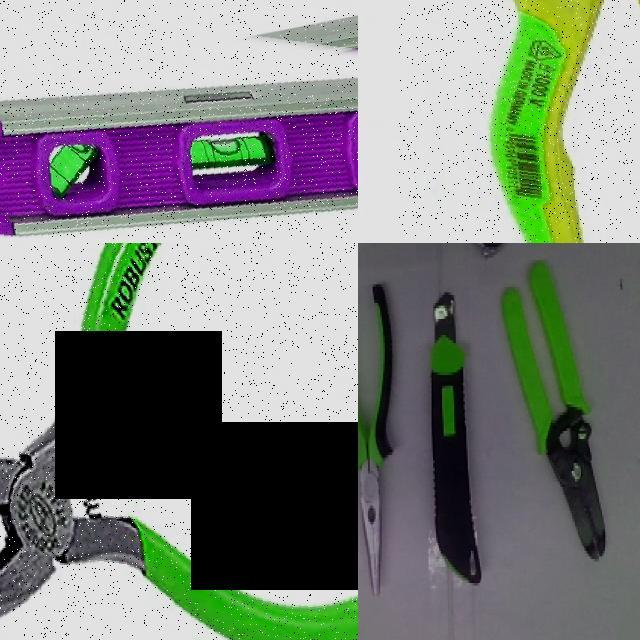estilete: (431, 292, 480, 583)
